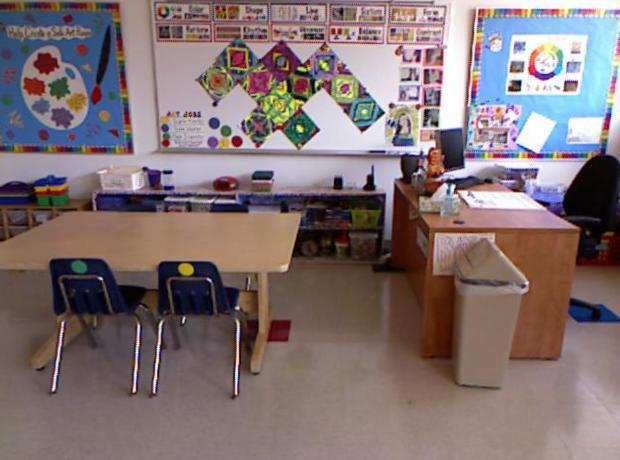Bote de Basura: (445, 238, 532, 402)
